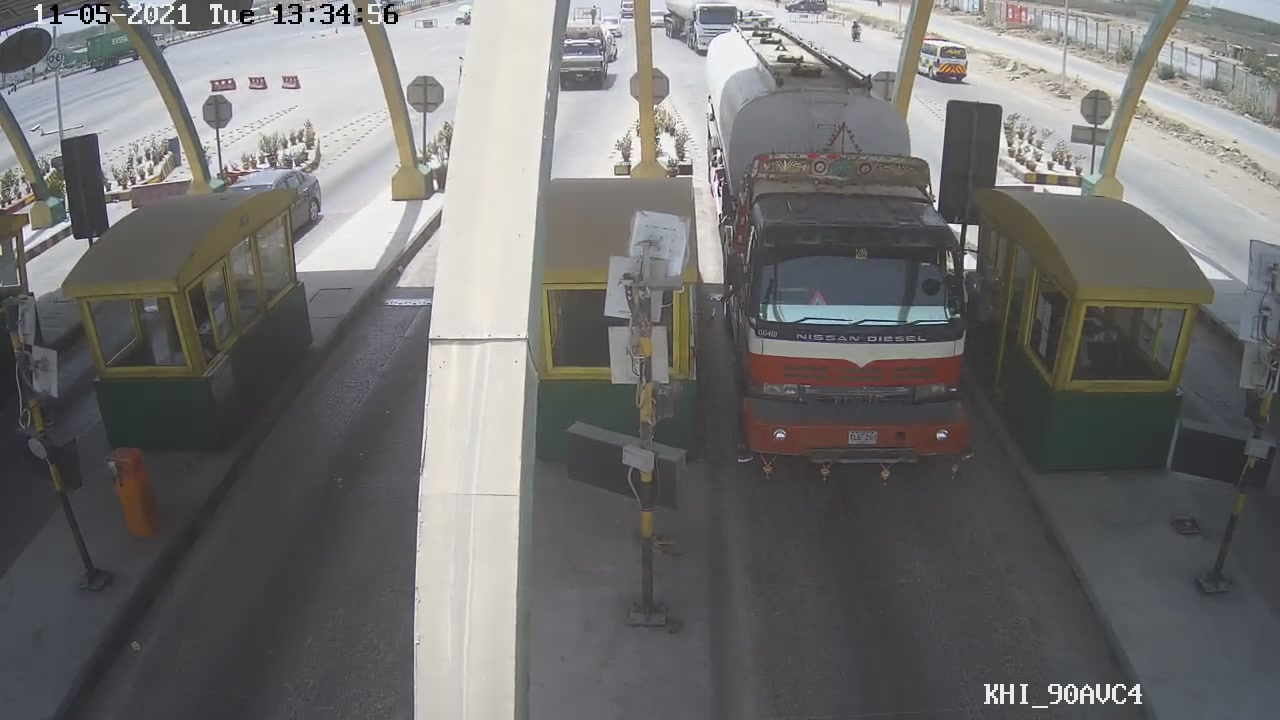F6: (696, 31, 994, 499)
